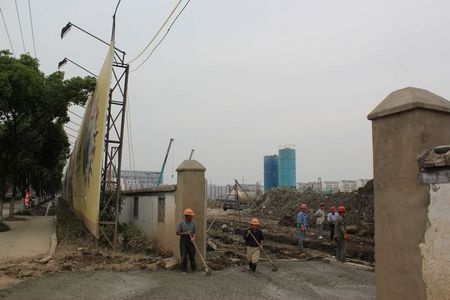red: (336, 205, 346, 215), (299, 203, 307, 212), (328, 206, 336, 214)
yellow: (181, 208, 194, 221), (249, 217, 260, 229)
